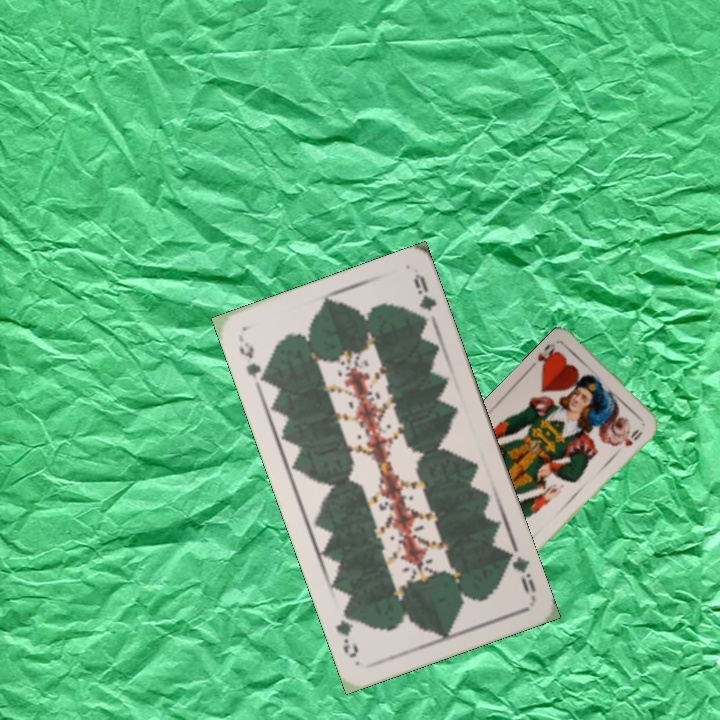G9: (501, 543, 539, 600), (234, 333, 270, 391)
HO: (533, 339, 562, 372)
